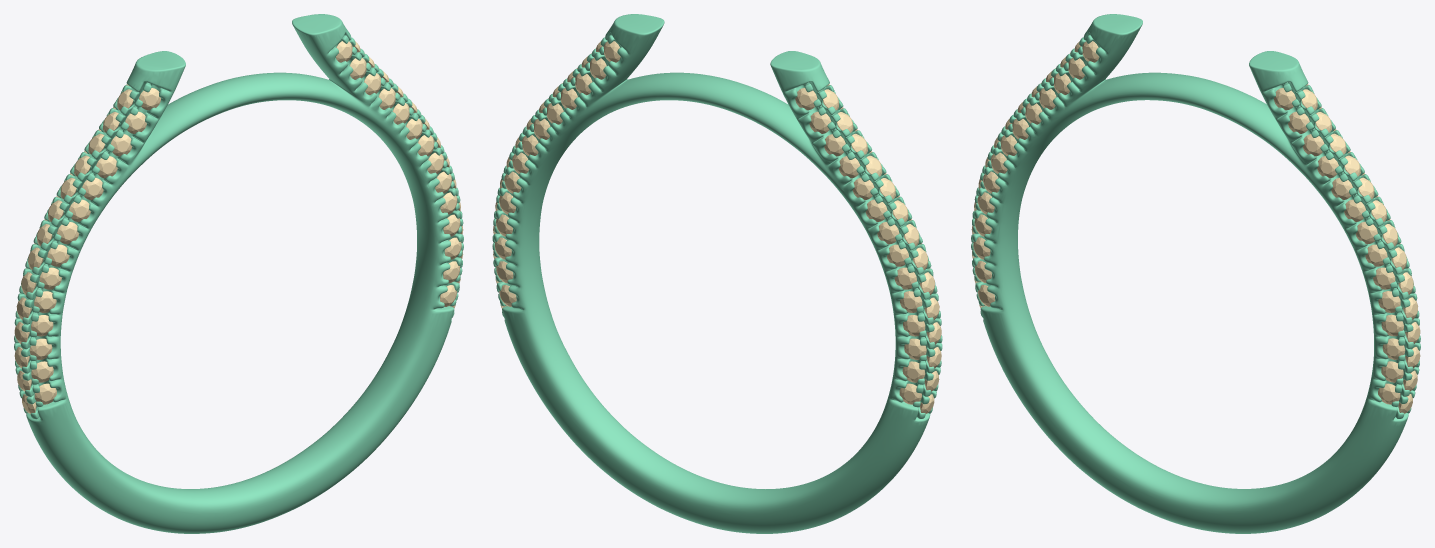
The picture shows the model from 3 angles, left to right: view 1: azimuth 30°, elevation 25°; view 2: azimuth 150°, elevation 25°; view 3: azimuth 330°, elevation 25°; orthographic projection.
Parts seen in each view (by area): view 1: Metal02; view 2: Metal02; view 3: Metal02.
Boxes of the visible parts, box(x1,y1,x2,y2) form: Metal02: box(14, 14, 463, 533); Metal02: box(492, 14, 942, 533); Metal02: box(971, 14, 1420, 533).
Bounding box in the file's own units: 20.87 × 21.82 × 1.9.
